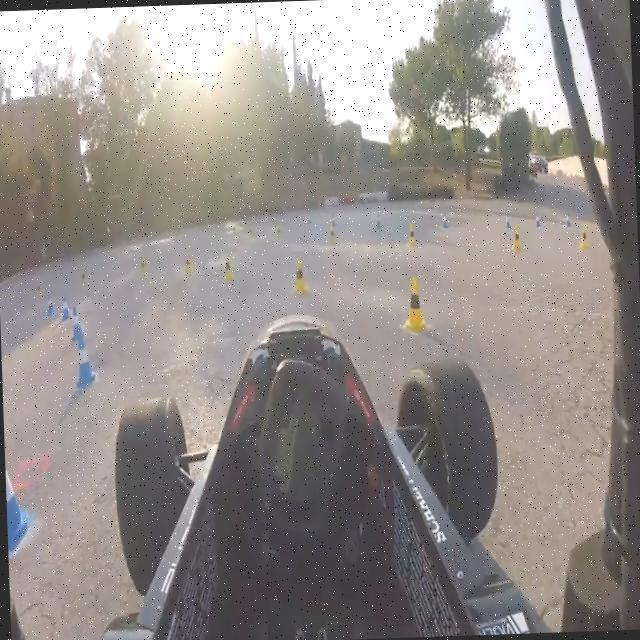blue_cone: (74, 326, 96, 388), (70, 306, 84, 341), (44, 293, 56, 319), (60, 292, 70, 322), (504, 210, 512, 230), (534, 208, 540, 234), (441, 210, 448, 230), (375, 211, 381, 232), (565, 210, 571, 230)
yellow_cone: (402, 276, 429, 332), (288, 256, 310, 298), (509, 221, 523, 254), (407, 218, 418, 248), (222, 253, 233, 280), (182, 252, 194, 276), (578, 224, 588, 250), (138, 252, 146, 280), (328, 224, 336, 246), (34, 278, 42, 299)
